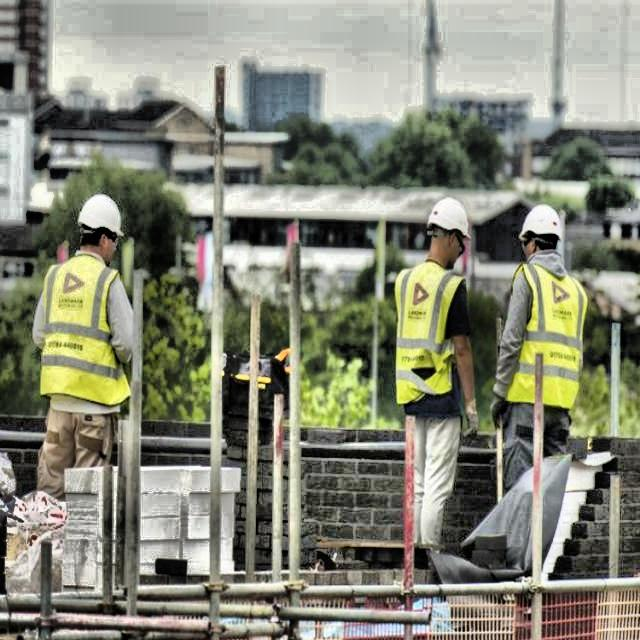person: (383, 200, 485, 560), (34, 190, 138, 488), (492, 200, 586, 484)
